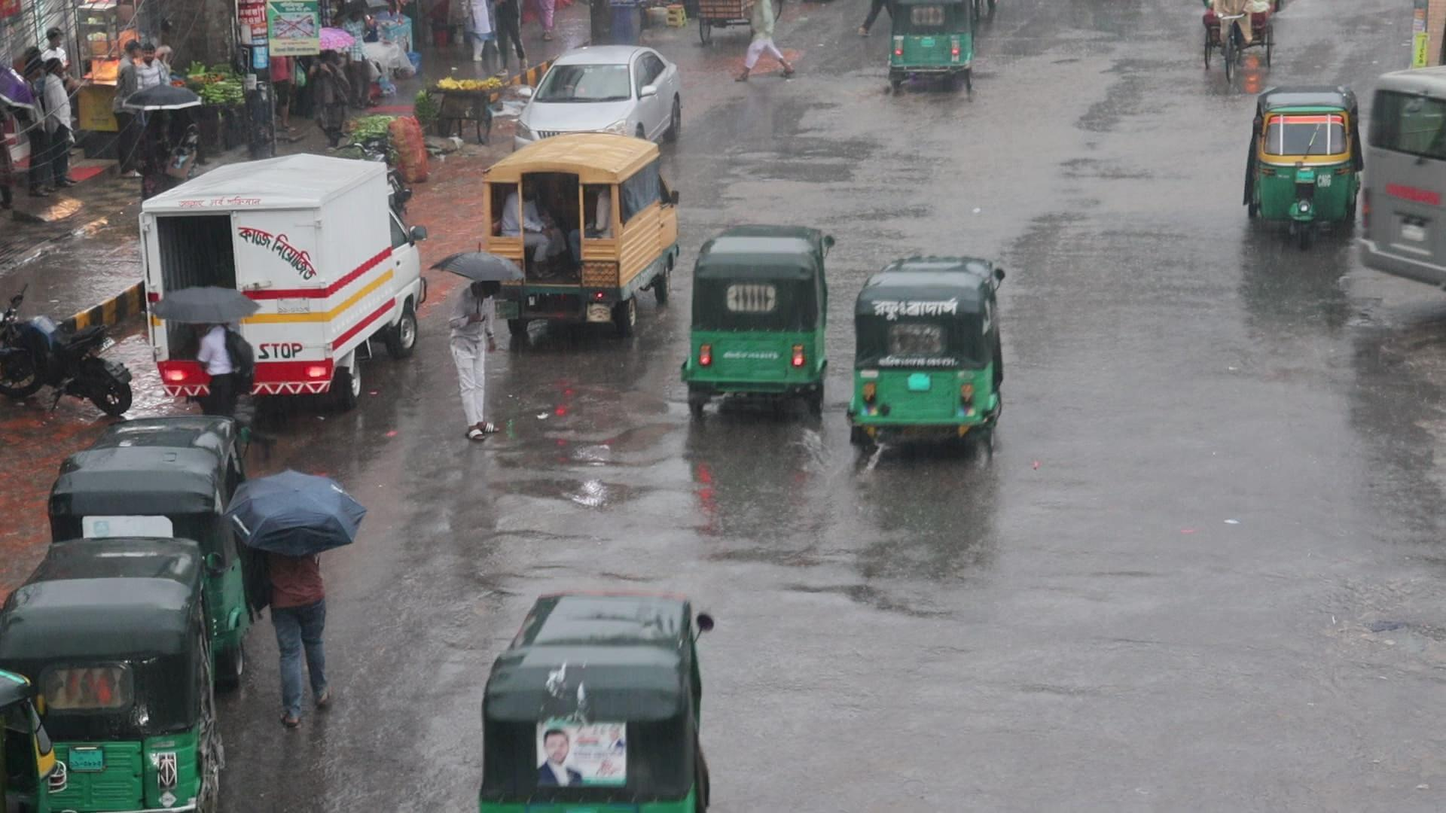Car: (509, 39, 683, 167)
Truck: (469, 139, 680, 358)
